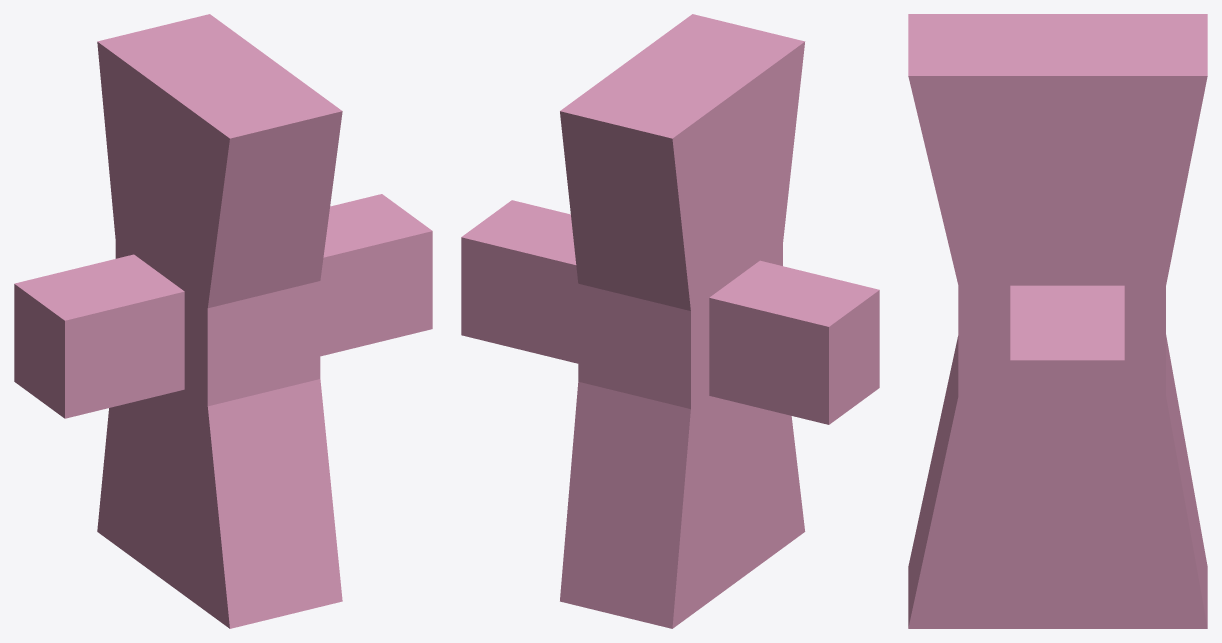
The model's file is LineTest1.glb.
The picture shows the model from 3 angles, left to right: view 1: azimuth 30°, elevation 25°; view 2: azimuth 150°, elevation 25°; view 3: azimuth 270°, elevation 25°; orthographic projection. The views are drawn at different scales.
Parts seen in each view (by area): view 1: Cube; view 2: Cube; view 3: Cube.
Part boxes in pixels (x1,y1,x2,y2): Cube: [14, 14, 432, 628]; Cube: [461, 14, 879, 628]; Cube: [908, 14, 1207, 628].
Bounding box in the file's own units: 6.53 × 8.32 × 4.08.
